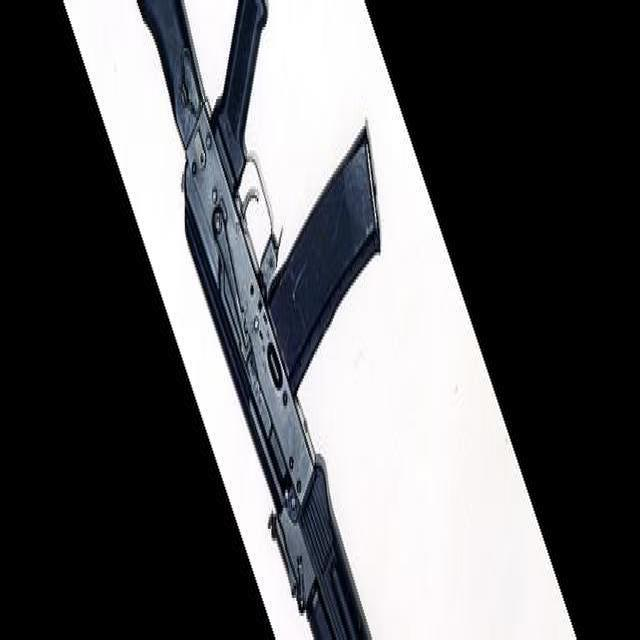weapon: (138, 0, 382, 640)
